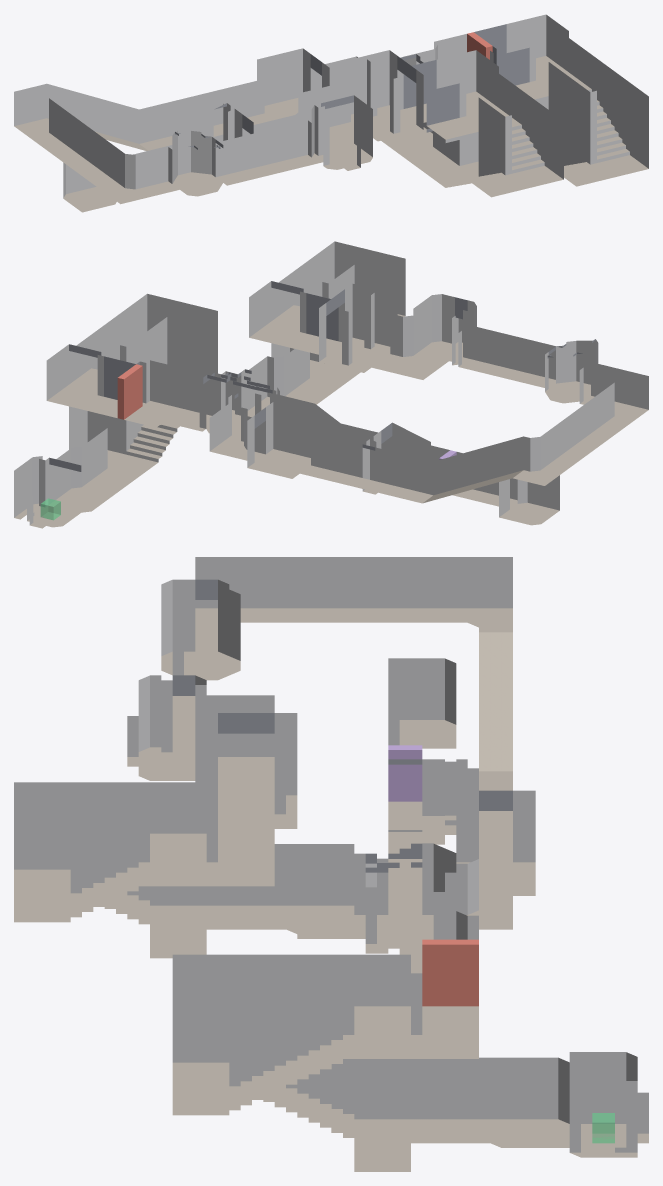
File: works_03.glb
The picture shows the model from 3 angles, top to bottom: view 1: azimuth 30°, elevation 25°; view 2: azimuth 150°, elevation 25°; view 3: azimuth 270°, elevation 25°; orthographic projection. The views are drawn at different scales.
Parts seen in each view (by area): view 1: corridor:7, room:7, room:6, corridor:0, corridor:3, corridor:1, room:4, corridor:5, room:0, room:5, room:3, room:0/portals (+3 smaller); view 2: corridor:7, room:7, corridor:0, corridor:1, room:6, corridor:6, corridor:3, corridor:5, room:0, room:4, room:5, room:2 (+8 smaller); view 3: room:7, corridor:7, room:6, corridor:0, corridor:6, corridor:5, entities, corridor:1, room:4, room:5, room:2, room:0 (+9 smaller).
Part boxes in pixels (left/top/right/bottom): corridor:7: left=14, top=48, right=357, bottom=204; room:7: left=496, top=38, right=648, bottom=186; room:6: left=426, top=74, right=563, bottom=197; corridor:0: left=298, top=50, right=498, bottom=149; corridor:3: left=215, top=120, right=318, bottom=185; corridor:1: left=403, top=14, right=568, bottom=80; room:4: left=172, top=130, right=223, bottom=196; corridor:5: left=381, top=122, right=459, bottom=173; room:0: left=311, top=95, right=372, bottom=169; room:5: left=63, top=162, right=116, bottom=212; room:3: left=187, top=103, right=253, bottom=141; room:0/portals: left=314, top=105, right=329, bottom=165; corridor:7: left=209, top=362, right=648, bottom=503; room:7: left=69, top=293, right=217, bottom=475; corridor:0: left=249, top=281, right=444, bottom=379; corridor:1: left=46, top=344, right=214, bottom=431; room:6: left=271, top=241, right=405, bottom=385; corridor:6: left=49, top=428, right=139, bottom=512; corridor:3: left=458, top=325, right=555, bottom=388; corridor:5: left=245, top=349, right=341, bottom=415; room:0: left=413, top=294, right=476, bottom=365; room:4: left=545, top=339, right=598, bottom=403; room:5: left=499, top=475, right=559, bottom=525; room:2: left=14, top=456, right=81, bottom=527; room:7: left=172, top=954, right=410, bottom=1171; corridor:7: left=195, top=557, right=535, bottom=929; room:6: left=14, top=782, right=206, bottom=958; corridor:0: left=195, top=695, right=297, bottom=886; corridor:6: left=411, top=1057, right=569, bottom=1147; corridor:5: left=206, top=844, right=365, bottom=938; entities: left=388, top=745, right=614, bottom=1143; corridor:1: left=399, top=887, right=478, bottom=1058; room:4: left=161, top=579, right=240, bottom=680; room:5: left=388, top=658, right=456, bottom=748; room:2: left=569, top=1052, right=637, bottom=1157; room:0: left=138, top=675, right=206, bottom=780.
Bounding box in the file's own units: 79 × 26 × 56.
